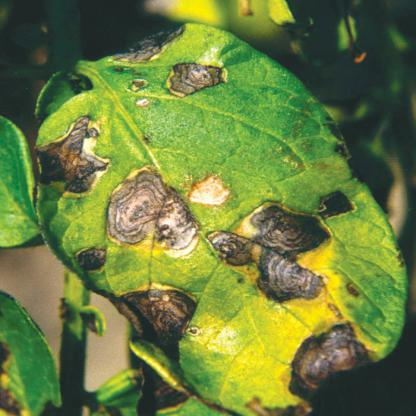potato leaf early blight: (26, 19, 415, 406)
